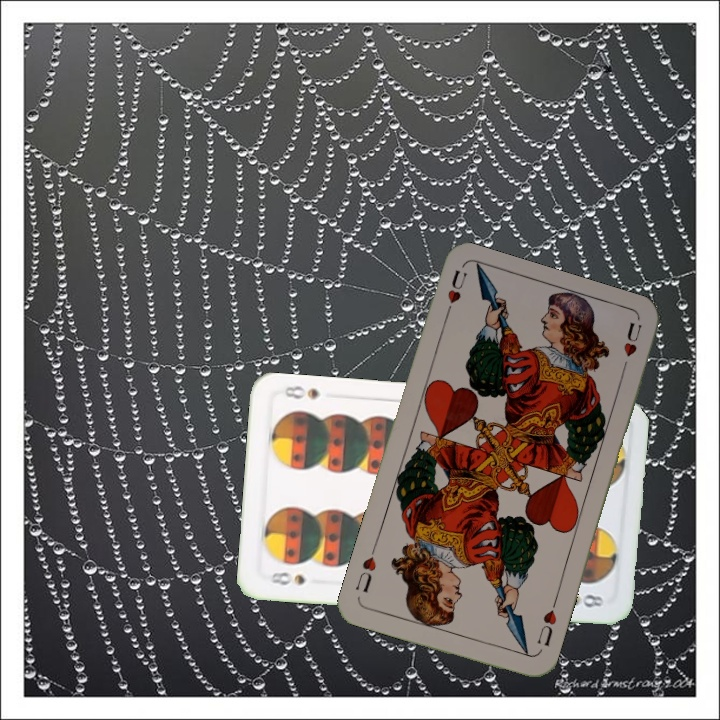HU: (440, 265, 469, 323), (532, 597, 559, 649)
S8: (266, 567, 308, 588)
